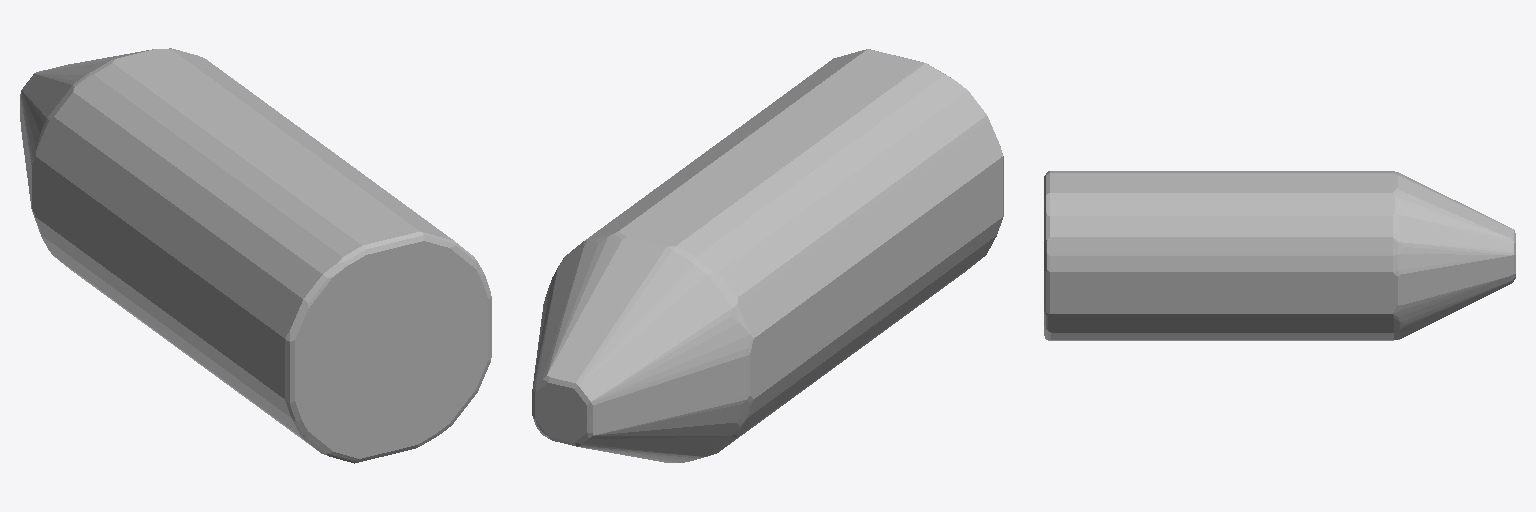
robot.urdf — root:
<robot name="root">
  <link name="link_coacd_convex_piece_0">
    <inertial>
      <origin xyz="0 0 0" rpy="0 0 0"/>
      <inertia ixx="1.18E-01" ixy="-3.30E-06" ixz="-1.62E-05" iyy="1.18E-01" iyz="-1.41E-05" izz="2.55E-02"/>
    </inertial>
    <visual>
      <origin xyz="0 0 0" rpy="0 0 0"/>
      <geometry>
        <mesh filename="coacd_convex_piece_0.obj" scale="1.0000E+00 1.0000E+00 1.0000E+00"/>
      </geometry>
      <material name="">
        <color rgba="7.50E-01 7.50E-01 7.50E-01 1"/>
      </material>
    </visual>
    <collision>
      <origin xyz="0 0 0" rpy="0 0 0"/>
      <geometry>
        <mesh filename="coacd_convex_piece_0.obj" scale="1.0000E+00 1.0000E+00 1.0000E+00"/>
      </geometry>
    </collision>
  </link>
</robot>

--- Facts derived from the render (not from the file) ---
3 views of the same robot in one strip: view 1: azimuth 30°, elevation 25°; view 2: azimuth 150°, elevation 25°; view 3: azimuth 270°, elevation 25° (orthographic).
Model root with 1 links and 0 joints (none), rooted at link_coacd_convex_piece_0, posed all joints at 0.
Links seen in each view (by area): view 1: link_coacd_convex_piece_0; view 2: link_coacd_convex_piece_0; view 3: link_coacd_convex_piece_0.
Link boxes in pixels (x1,y1,x2,y2): link_coacd_convex_piece_0: (20, 48, 491, 463); link_coacd_convex_piece_0: (532, 49, 1003, 462); link_coacd_convex_piece_0: (1044, 171, 1515, 340).
Bounding box of the posed robot: 0.644 × 1.85 × 0.644 m (x, y, z).
Meshes: 1 distinct files referenced, 1 mesh visuals loaded (1 OBJ).
